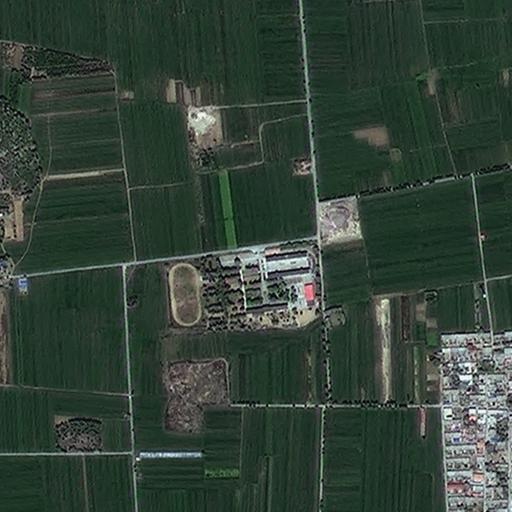school: (167, 238, 321, 331)
